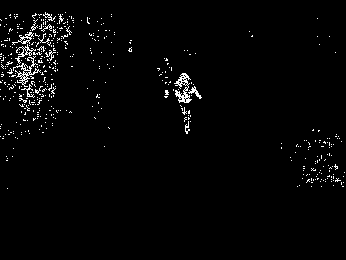person: (175, 72, 203, 135)
